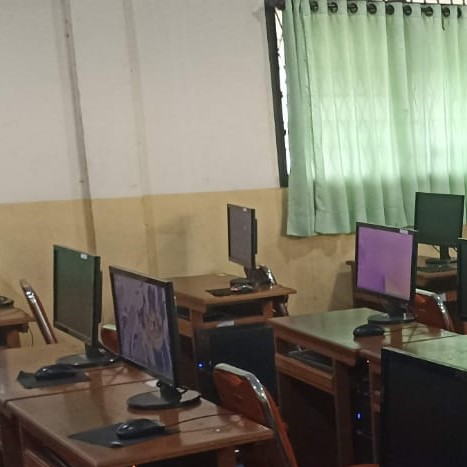monitor: (377, 346, 466, 465), (108, 264, 183, 393), (352, 222, 417, 318), (52, 243, 103, 354), (413, 192, 464, 246), (227, 202, 257, 271)
